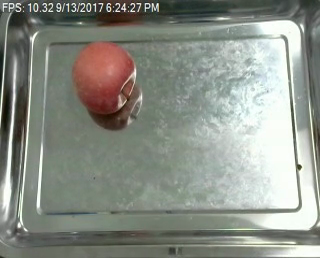Apple: (68, 39, 139, 117)
